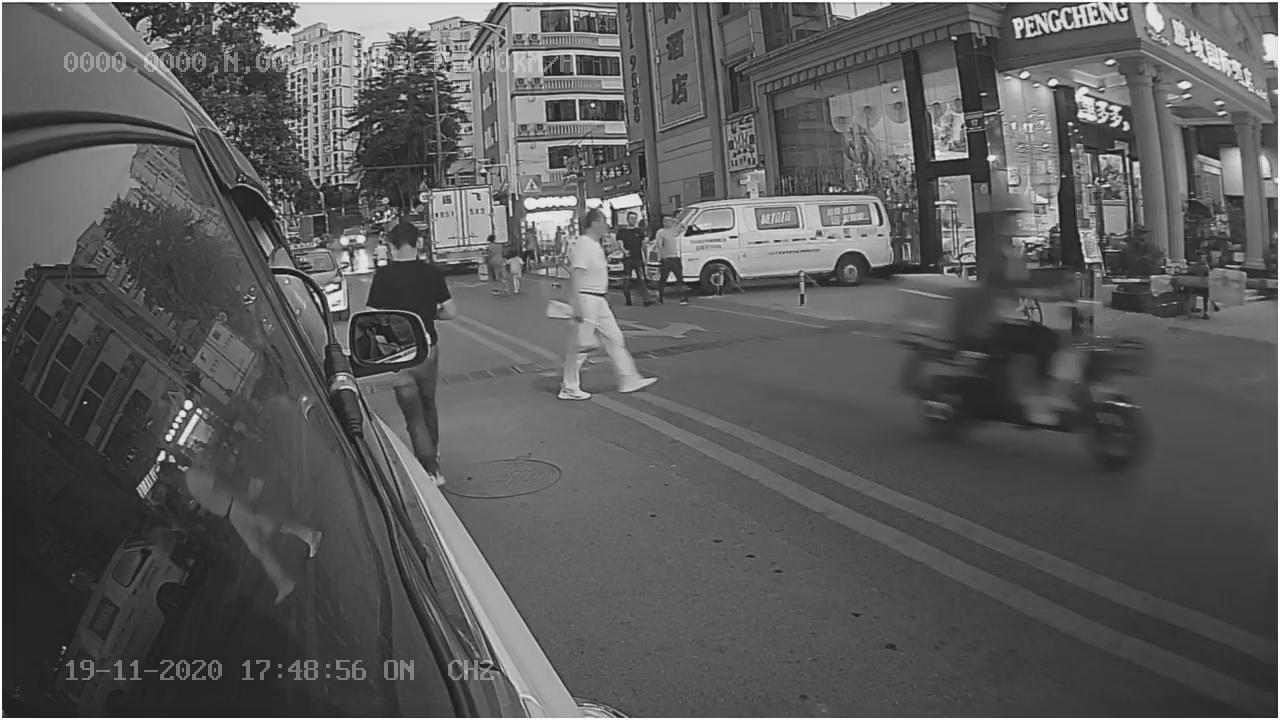person: (546, 210, 668, 410)
